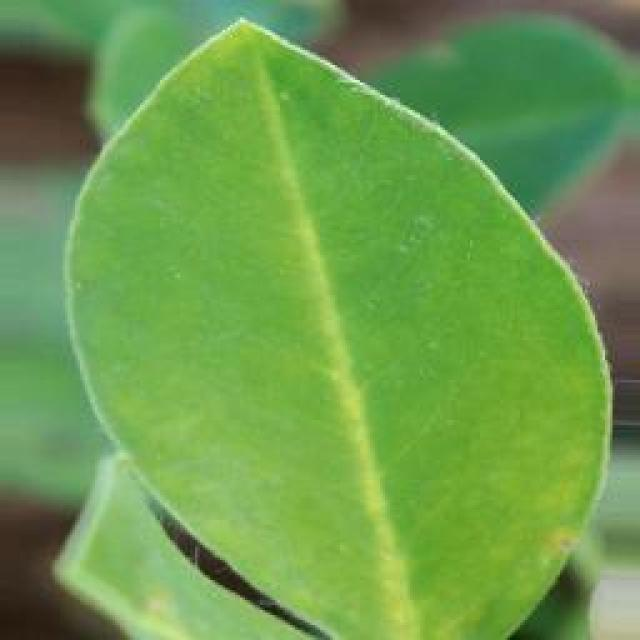Yellow_and_black_sigatoka: (49, 10, 622, 640)
